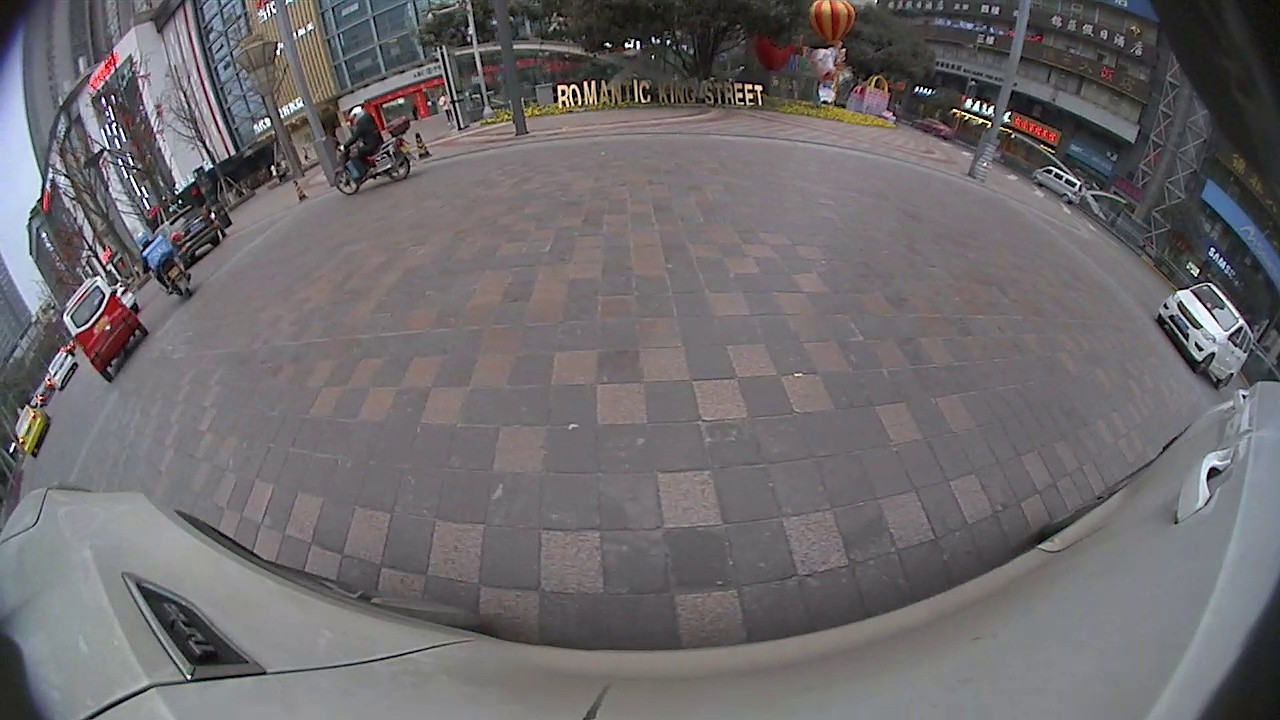car: (1158, 281, 1255, 390), (165, 210, 223, 253), (11, 407, 49, 455), (1034, 166, 1079, 202)
front: (330, 171, 363, 197), (1191, 350, 1217, 377)
rear: (383, 153, 411, 183), (1214, 372, 1237, 395), (1058, 192, 1075, 207)
rider: (65, 276, 148, 380), (335, 104, 408, 191), (138, 233, 194, 295)
